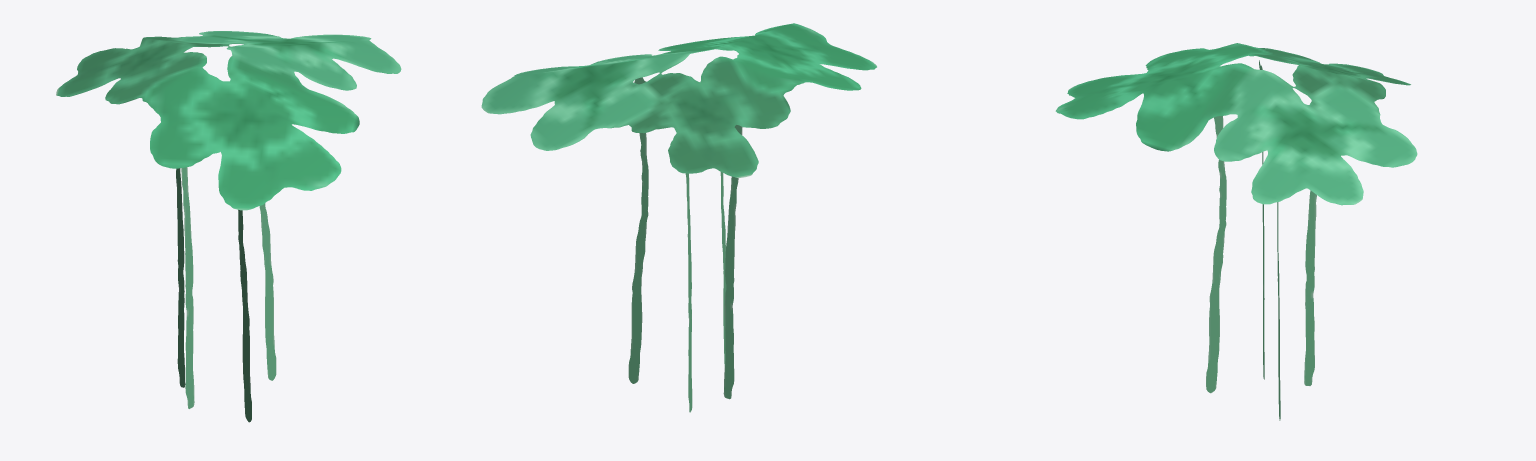
File: SM_ENV_plant_ancient_09_03.fbx
3 views of the same model, side by side, from view 1: azimuth 30°, elevation 25°; view 2: azimuth 150°, elevation 25°; view 3: azimuth 270°, elevation 25° (orthographic). The views are drawn at different scales.
Parts seen in each view (by area): view 1: SM_ENV_plant_ancient_09_03_LOD0; view 2: SM_ENV_plant_ancient_09_03_LOD0; view 3: SM_ENV_plant_ancient_09_03_LOD0.
Part boxes in pixels (x1=…): SM_ENV_plant_ancient_09_03_LOD0: x1=56, y1=31, x2=401, y2=422; SM_ENV_plant_ancient_09_03_LOD0: x1=481, y1=23, x2=876, y2=412; SM_ENV_plant_ancient_09_03_LOD0: x1=1055, y1=43, x2=1417, y2=420.
Bounding box in the file's own units: 27.01 × 20.1 × 27.72.
